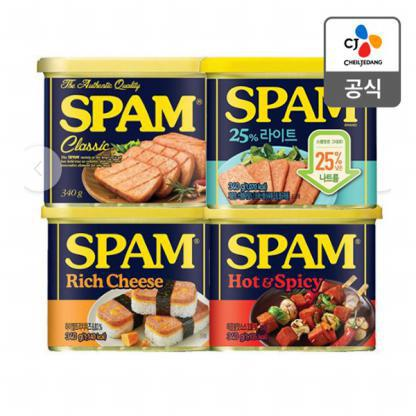spam: (195, 207, 382, 359), (44, 56, 210, 213), (206, 59, 374, 210), (40, 209, 206, 356)
